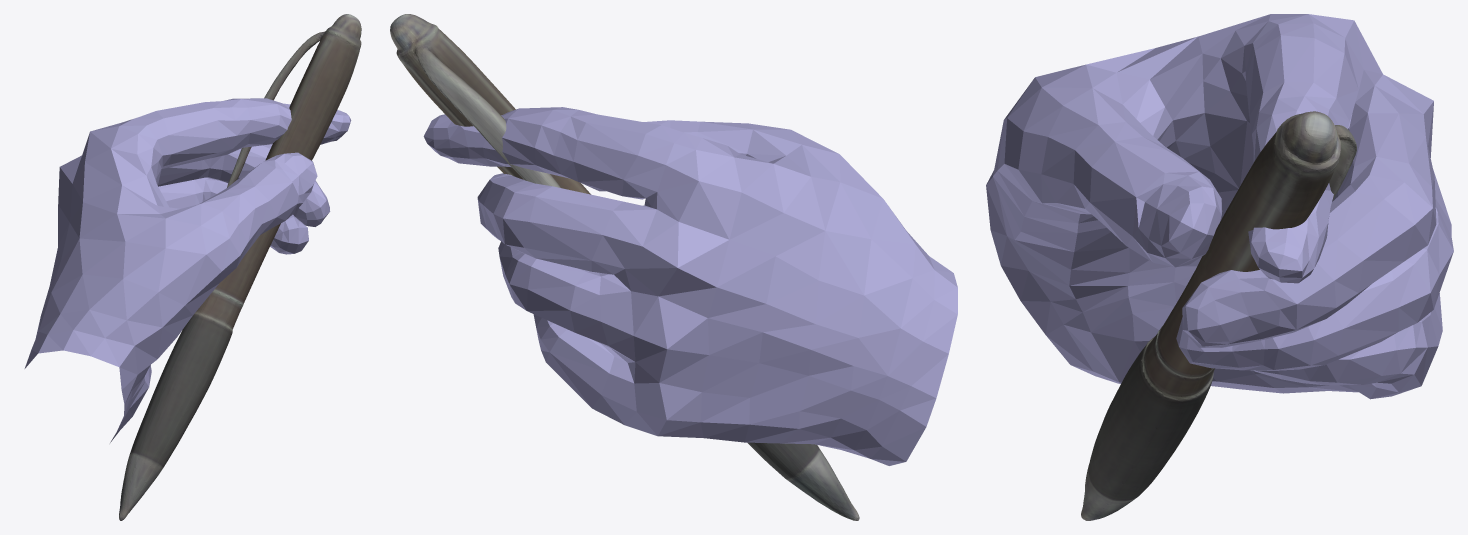
Rendered from frame_0060_source_000060_hand_object.glb.
The picture shows the model from 3 angles, left to right: view 1: azimuth 30°, elevation 25°; view 2: azimuth 150°, elevation 25°; view 3: azimuth 270°, elevation 25°; orthographic projection. The views are drawn at different scales.
Visible parts, largest first — view 1: world; view 2: world; view 3: world.
Boxes of the visible parts, x1,y1,x2,y2 form: world: [24, 14, 361, 520]; world: [390, 14, 957, 520]; world: [986, 14, 1453, 520].
Size of the model in its own units: 0.1542 by 0.1445 by 0.0945.
